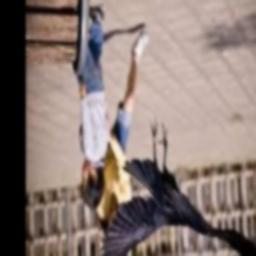Crow: (95, 121, 256, 256)
